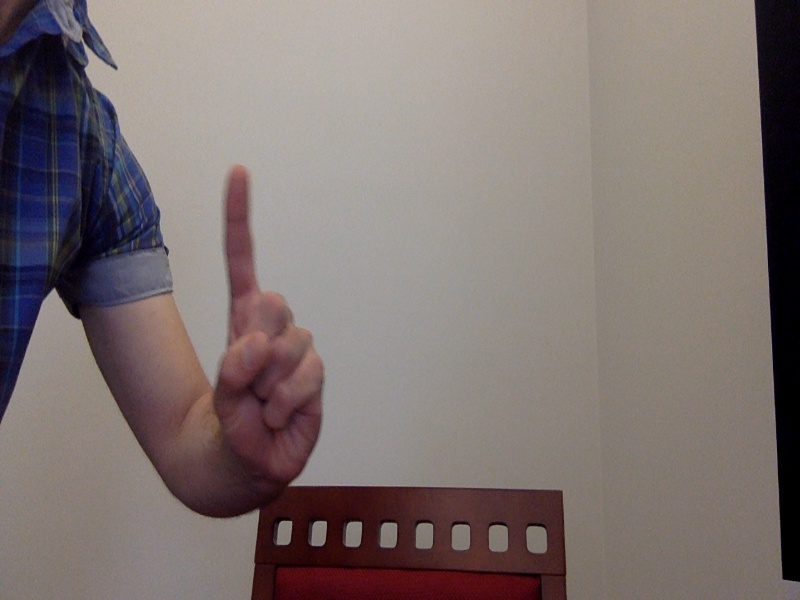1-hand: (219, 165, 320, 480)
